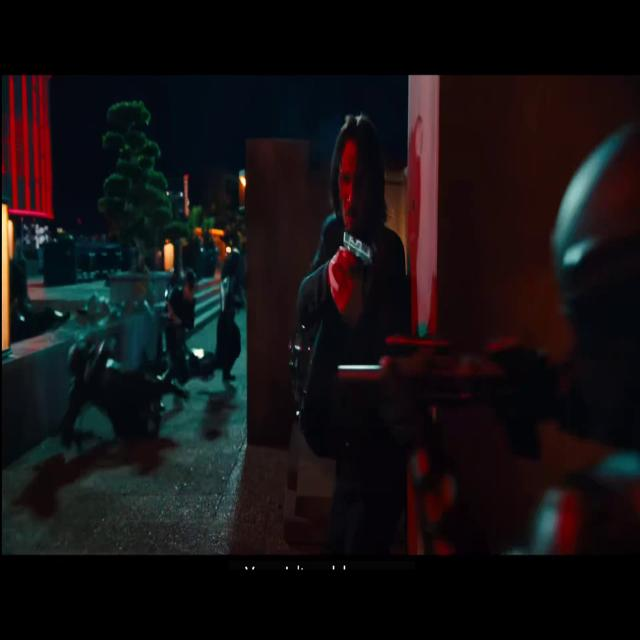weapons: (333, 219, 382, 324)
